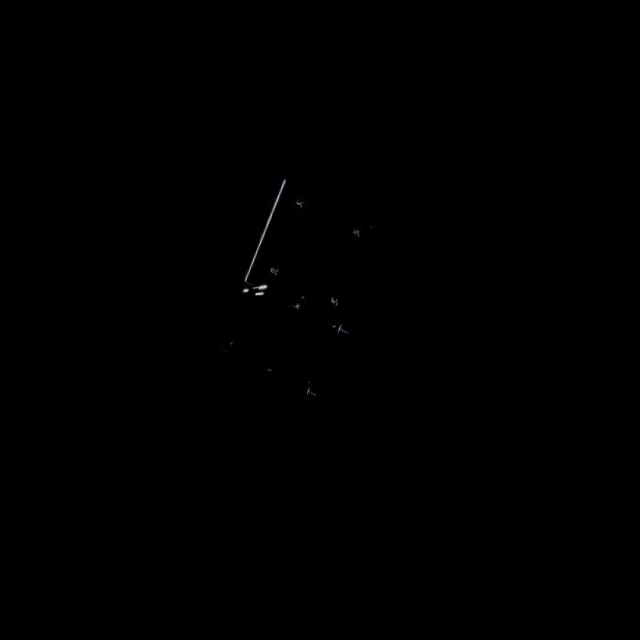satellite: (201, 159, 405, 420)
